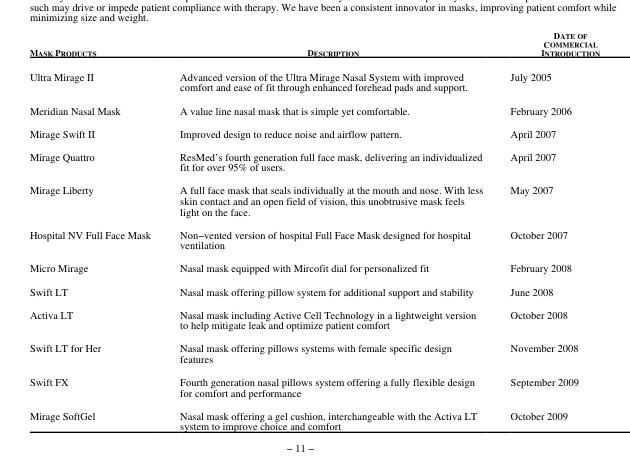table: (28, 28, 599, 432)
table column: (164, 28, 496, 432), (28, 28, 164, 432), (496, 28, 599, 432)
table column header: (28, 28, 599, 63)
table row: (28, 177, 599, 222), (28, 28, 599, 63), (28, 63, 599, 97), (28, 335, 599, 369), (28, 369, 599, 403), (28, 144, 599, 177), (28, 222, 599, 255), (28, 302, 599, 335), (28, 403, 599, 432), (28, 97, 599, 121), (28, 278, 599, 302), (28, 121, 599, 144), (28, 255, 599, 278)
